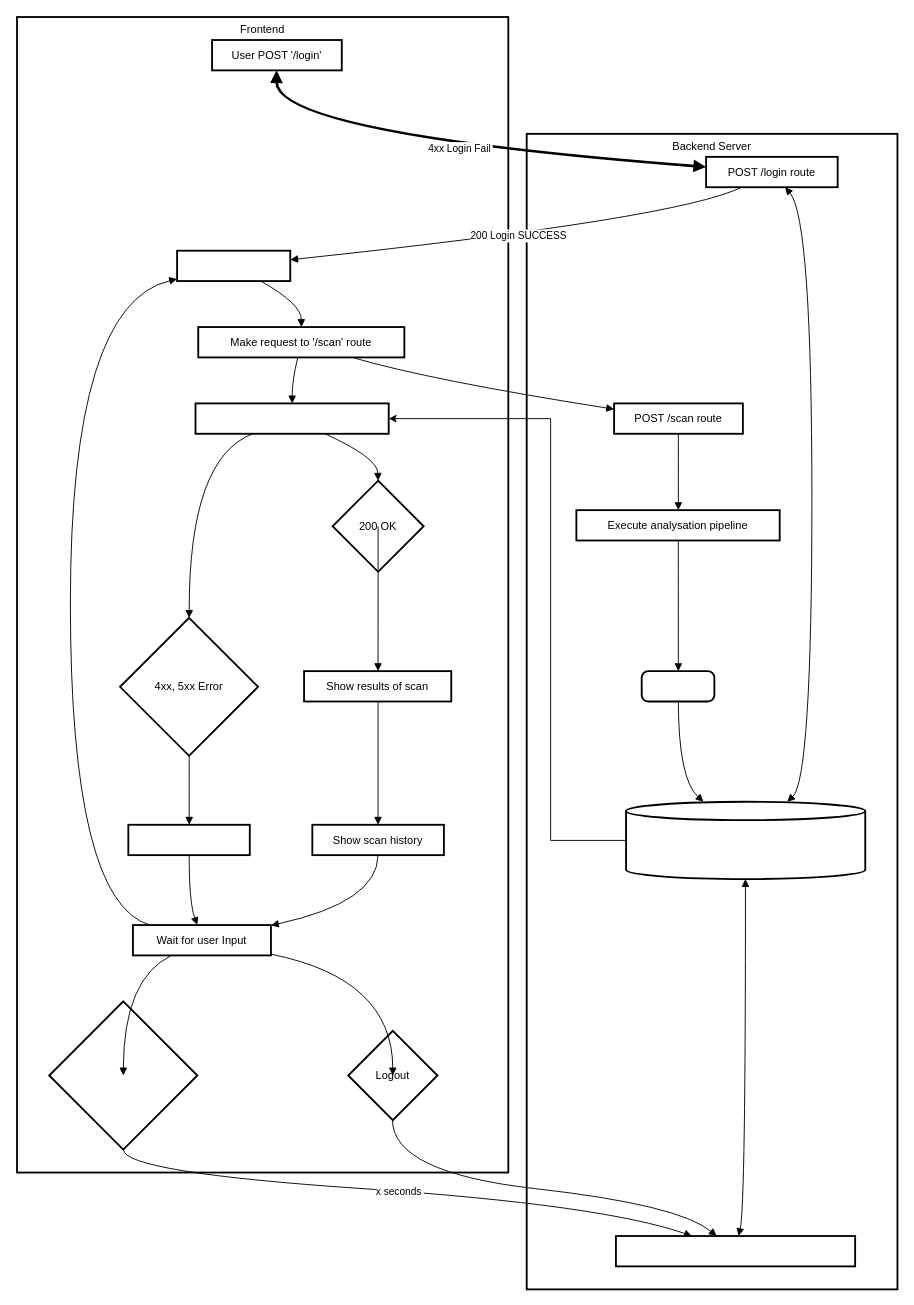
This 914x1305 diagram has some shape labels left out. Here are the shapes that lost their labels. From the top down, the centre of each, then its label:
At point 233,265: "Input URL page".
At point 291,418: "Show scanning loop to user".
At point 677,686: "AI model".
At point 188,839: "Show error page".
At point 745,840: "Database: Stores, result, user, etc".
At point 123,1075: "Session timeout".
At point 735,1251: "Logout user and invalidate session".
